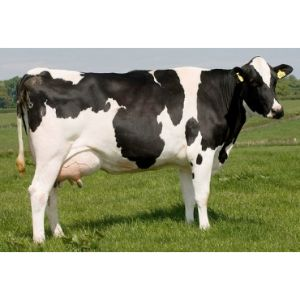cow: (13, 55, 294, 239)
